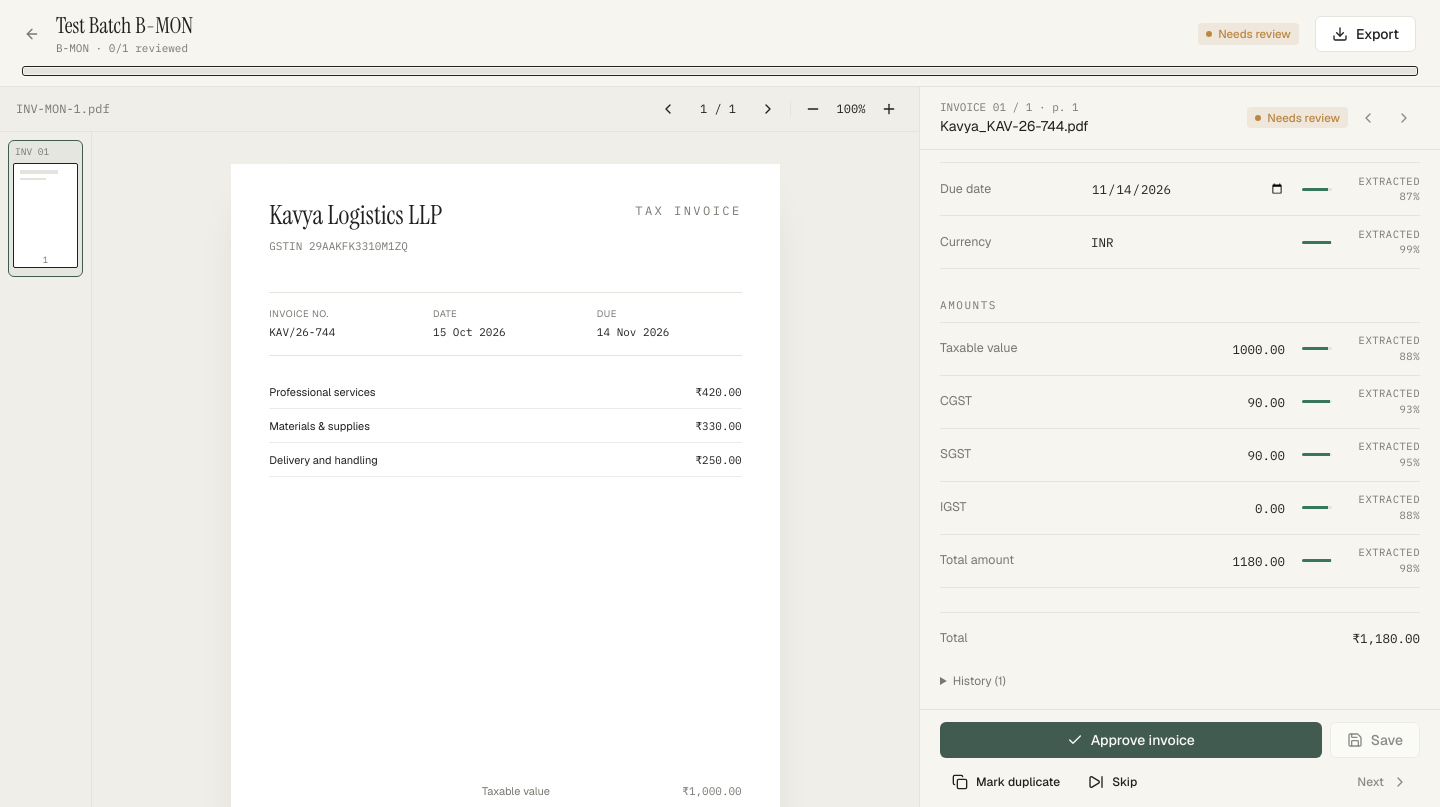
it: Invoice Review Guardrails UI & Workflow › flags malformed monetary amounts immediately on edit and prevents approval
This screenshot has width=1440, height=807.
(page scrolled)
Expected: the button "Approve invoice" is enabled, [940, 722, 1322, 758]
Step 1. Replace the text in the field labelled "Total amount" with "abc" → (1188, 561), box [1082, 545, 1294, 577]
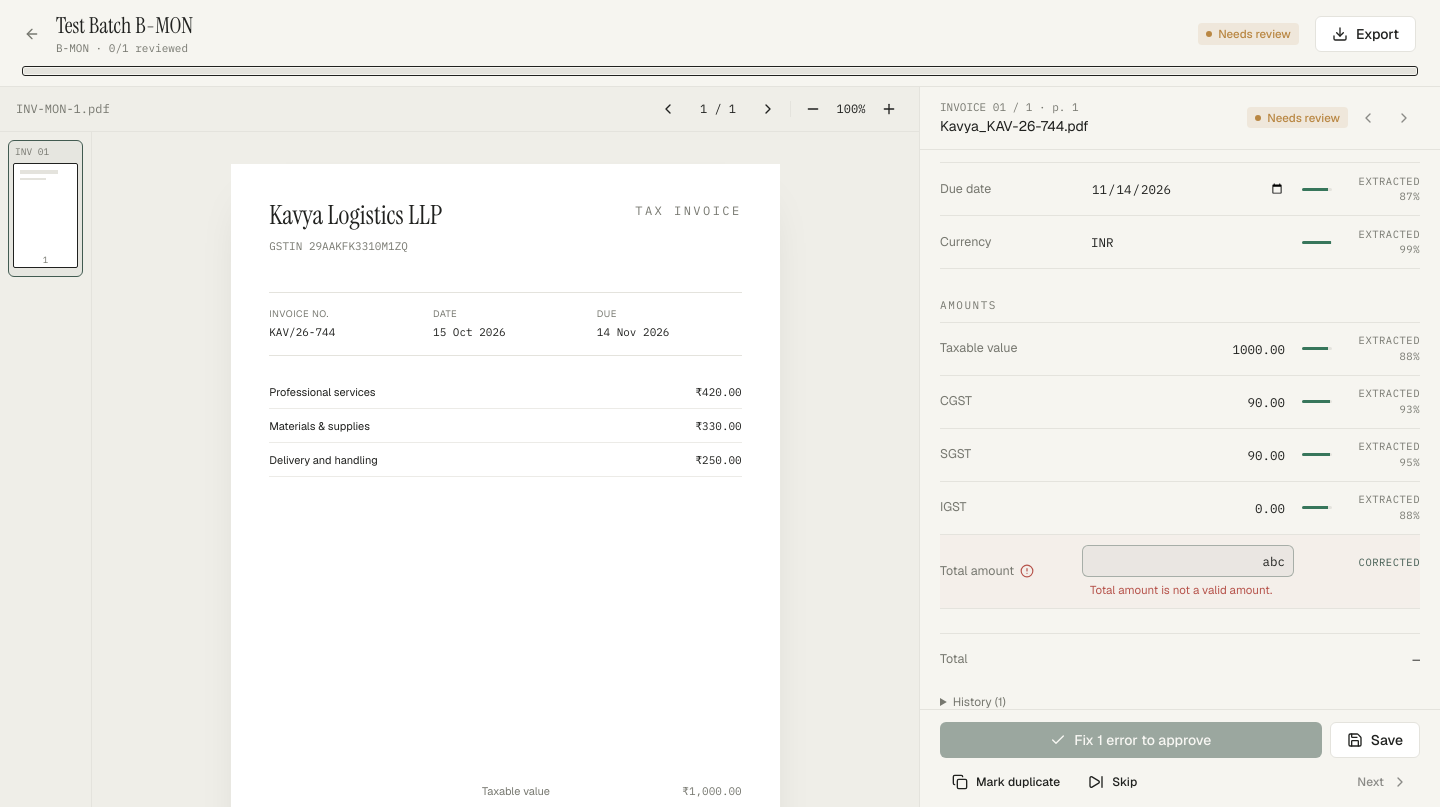
Expected: the button "Fix 1 error to approve" is disabled, [940, 722, 1322, 758]
Step 2. Replace the text in the field labelled "Total amount" with "1,180.00" → (1188, 561), box [1082, 545, 1294, 577]
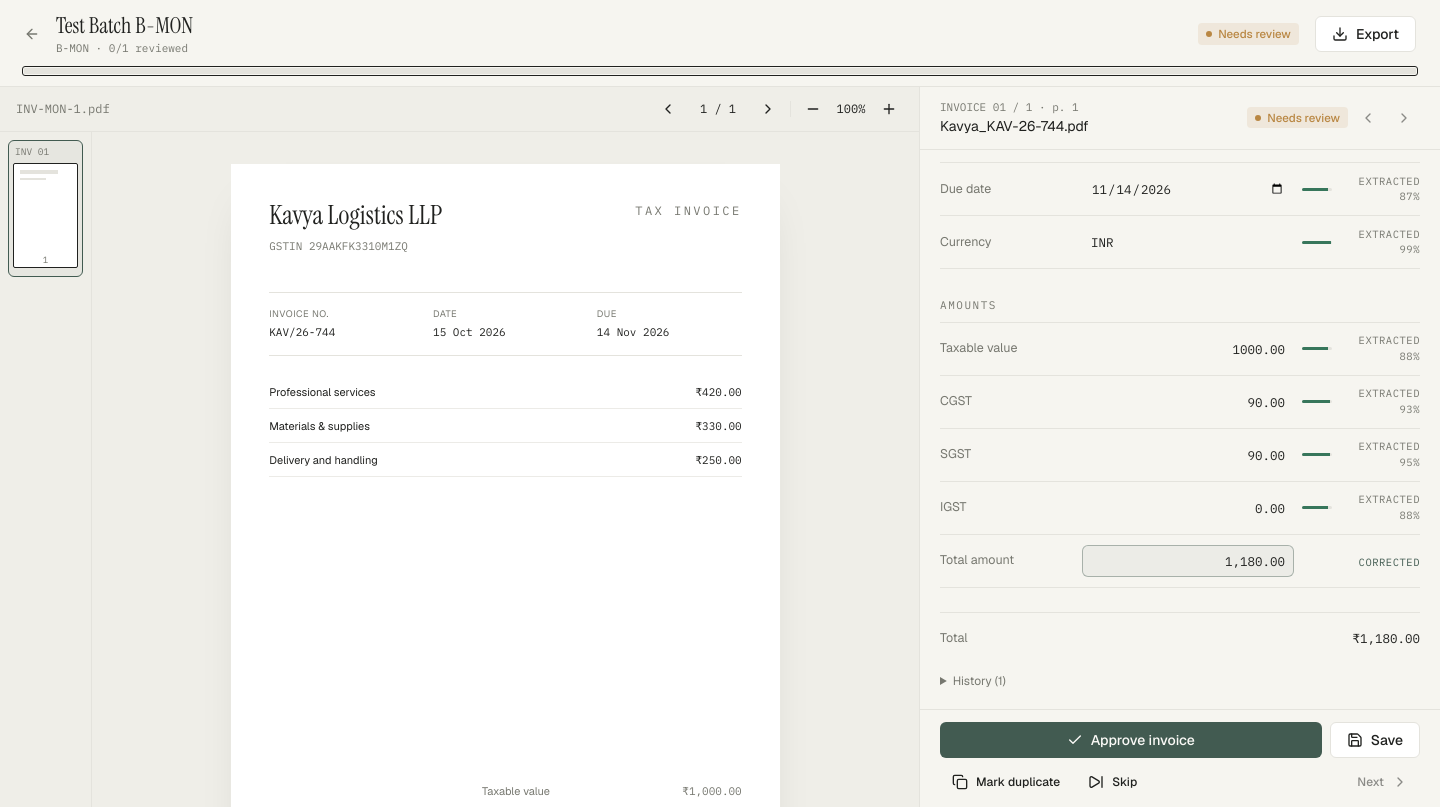
Expected: the button "Approve invoice" is enabled, [940, 722, 1322, 758]
